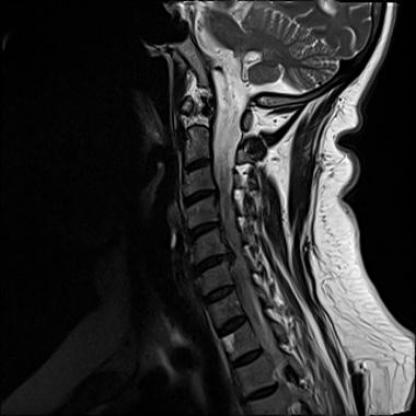Disc Protrusionrotation: (180, 188, 218, 207), (193, 255, 230, 273), (200, 286, 237, 304)
